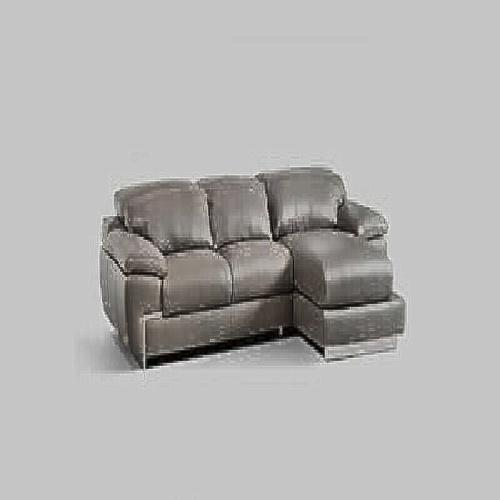sofa: (97, 174, 414, 367)
